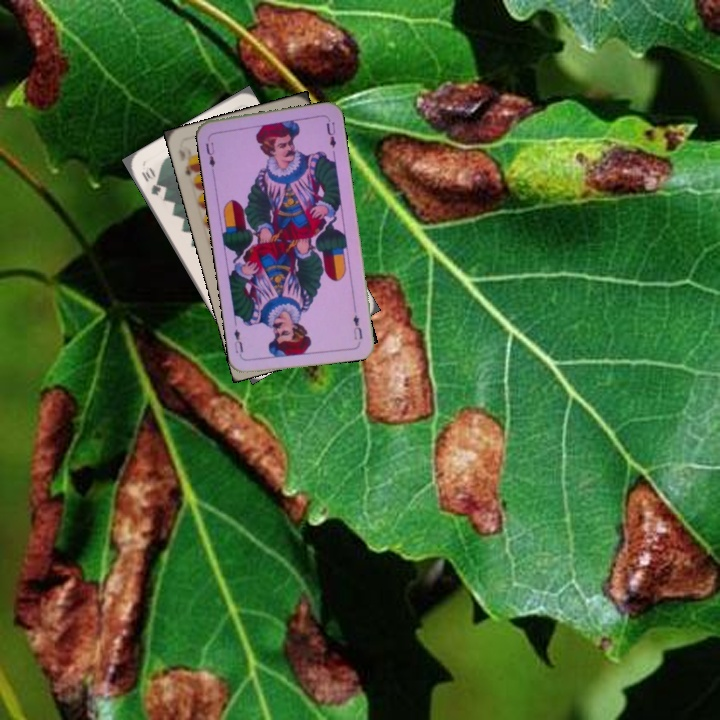E10: (181, 154, 199, 179)
EU: (202, 133, 217, 169), (349, 311, 365, 343)
G10: (137, 163, 164, 198)
